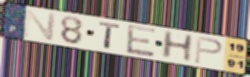8: (60, 16, 85, 46)
E: (125, 23, 158, 58)
H: (159, 29, 196, 63)
N: (21, 8, 59, 42)
P: (193, 35, 224, 65)
T: (98, 21, 122, 51)
